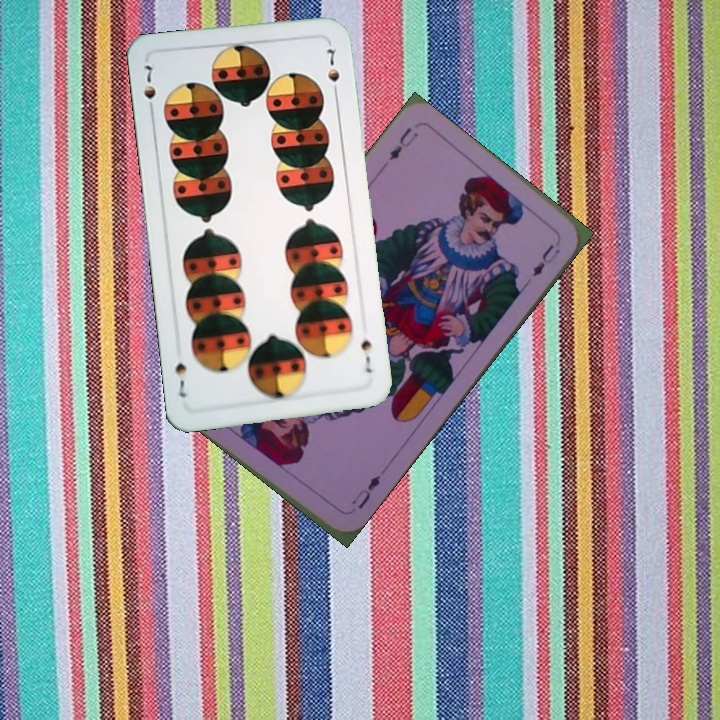EU: (347, 470, 384, 512), (385, 123, 421, 163)
S7: (139, 61, 159, 118), (356, 335, 375, 376)
